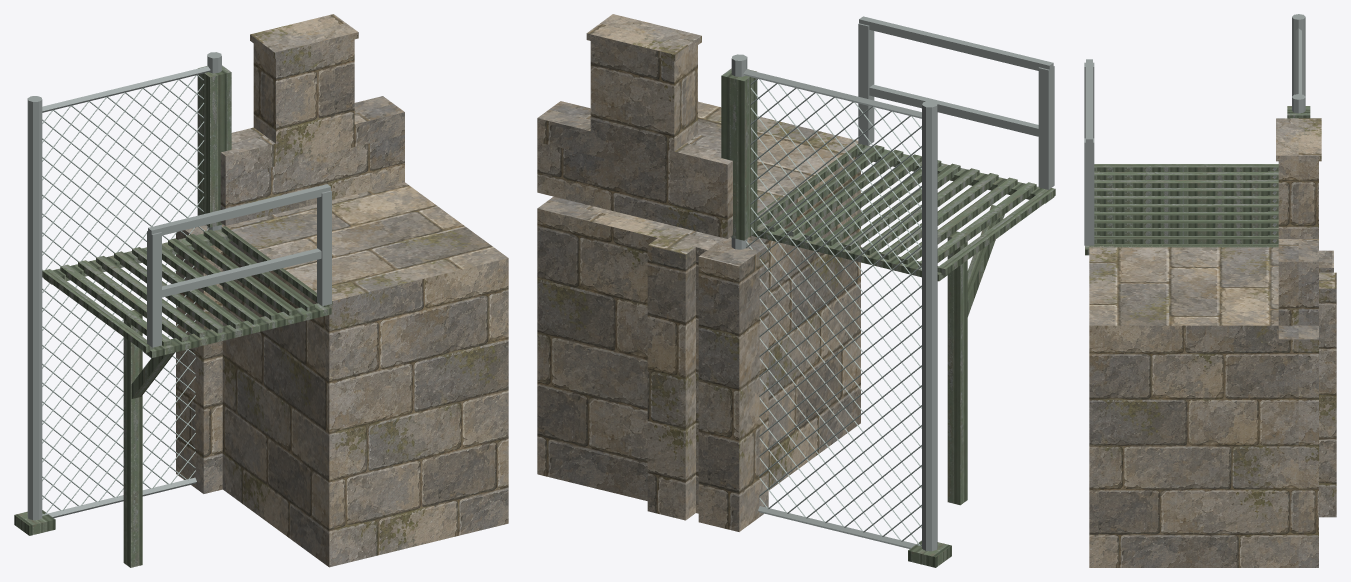
The model's file is link-cyclone-to-castle.gltf.
The picture shows the model from 3 angles, left to right: view 1: azimuth 30°, elevation 25°; view 2: azimuth 150°, elevation 25°; view 3: azimuth 270°, elevation 25°; orthographic projection. The views are drawn at different scales.
Parts seen in each view (by area): view 1: curtain-L0-stone, walkway-L1-stone, walkway-L1-metal, fence-L0-wire, fence-L0-iron, junction-L0-stone, guards-L1-iron, structure-L0-metal, junction-L0-metal, fence-L0-metal; view 2: curtain-L0-stone, junction-L0-stone, walkway-L1-metal, fence-L0-wire, fence-L0-iron, guards-L1-iron, structure-L0-metal, walkway-L1-stone, junction-L0-metal, fence-L0-metal; view 3: curtain-L0-stone, walkway-L1-stone, walkway-L1-metal, guards-L1-iron, fence-L0-iron, junction-L0-stone.
Boxes of the visible parts, x1,y1,x2,y2 form: curtain-L0-stone: [220, 14, 508, 567]; walkway-L1-stone: [226, 182, 508, 316]; walkway-L1-metal: [42, 226, 332, 357]; fence-L0-wire: [42, 75, 208, 515]; fence-L0-iron: [27, 52, 221, 520]; junction-L0-stone: [176, 224, 224, 493]; guards-L1-iron: [147, 184, 331, 347]; structure-L0-metal: [123, 310, 174, 567]; junction-L0-metal: [197, 65, 231, 227]; fence-L0-metal: [14, 510, 55, 535]; curtain-L0-stone: [537, 14, 860, 520]; junction-L0-stone: [698, 238, 768, 531]; walkway-L1-metal: [751, 143, 1055, 281]; fence-L0-wire: [745, 78, 921, 546]; fence-L0-iron: [731, 54, 937, 551]; guards-L1-iron: [858, 16, 1054, 189]; structure-L0-metal: [947, 205, 1004, 505]; walkway-L1-stone: [698, 101, 858, 237]; junction-L0-metal: [721, 68, 757, 240]; fence-L0-metal: [908, 540, 951, 567]; curtain-L0-stone: [1089, 118, 1336, 567]; walkway-L1-stone: [1089, 245, 1278, 339]; walkway-L1-metal: [1085, 164, 1278, 255]; guards-L1-iron: [1084, 59, 1094, 245]; fence-L0-iron: [1292, 14, 1305, 113]; junction-L0-stone: [1319, 250, 1333, 272].
Bounding box in the file's own units: 3.11 × 3.42 × 2.
4 materials, 2 textured.
